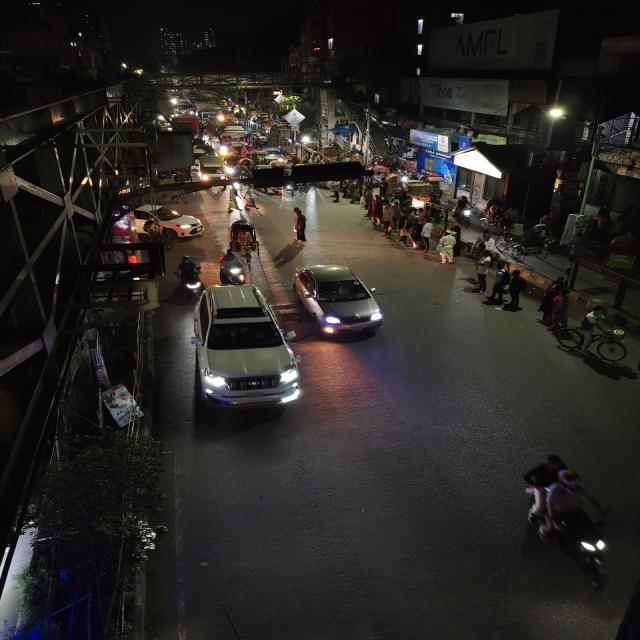bicycle: (554, 305, 630, 363)
car: (188, 283, 302, 422), (289, 262, 393, 344), (130, 204, 205, 238)
human_hauler: (198, 155, 230, 183)
motorcycle: (506, 447, 630, 589), (174, 255, 206, 296), (217, 250, 249, 284)
pedestrian: (536, 278, 573, 328), (504, 268, 532, 310), (400, 211, 428, 249), (288, 206, 313, 244), (469, 258, 494, 292), (452, 194, 476, 226), (487, 269, 508, 303), (436, 232, 458, 264), (365, 195, 386, 227), (418, 219, 438, 251), (225, 190, 242, 218), (397, 228, 415, 250), (381, 218, 395, 240), (327, 187, 343, 205)
rickshaw: (225, 219, 263, 258)
